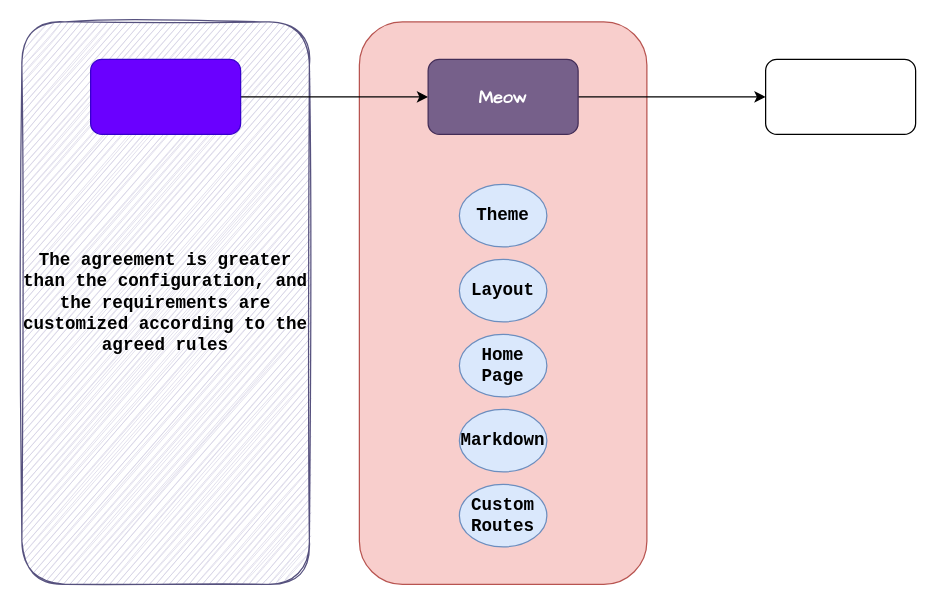
Some shapes in this 938 by 606 pixel diagram are drawn without their labels. The box of each missing label's shape, as (x1, y1, x2, y2) in pixels:
Flutter: (764, 58, 916, 134)
User App: (89, 58, 241, 134)
